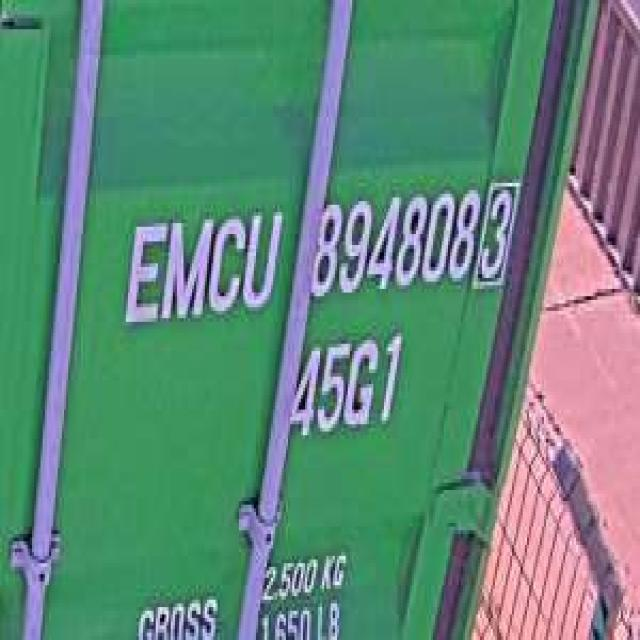dv: (474, 168, 520, 296)
owner: (113, 194, 284, 333)
serial: (311, 175, 481, 302)
size: (286, 326, 405, 446)
